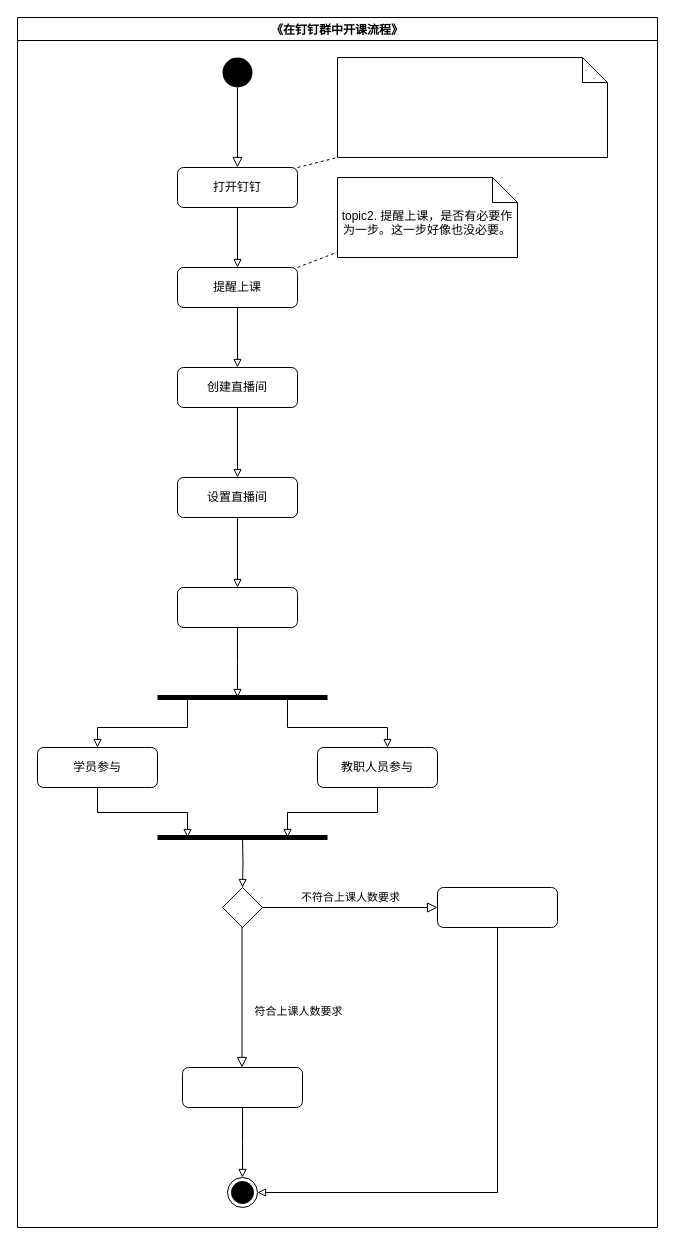
This 675x1245 diagram has some shape labels left out. Here are the shapes that lost their labels. From the top down, the box of each, then its label:
(336, 56, 608, 158): topic1. 打开钉钉，是否有必要作为一步。 假如阅读文档的人已经有了这个背景信息，那就不需要这一步。这里面写的每一步都要很饱含信息量
(176, 586, 298, 628): 发布直播间
(436, 886, 558, 928): 宣布课程顺延
(182, 1066, 302, 1108): 课程开始
